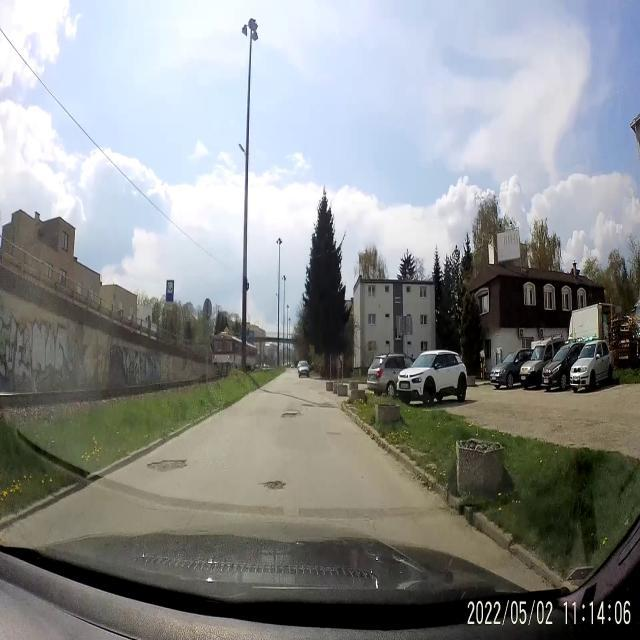Manhole: (326, 427, 342, 438)
Pothole: (146, 452, 192, 477), (262, 473, 288, 496), (282, 406, 302, 430)
